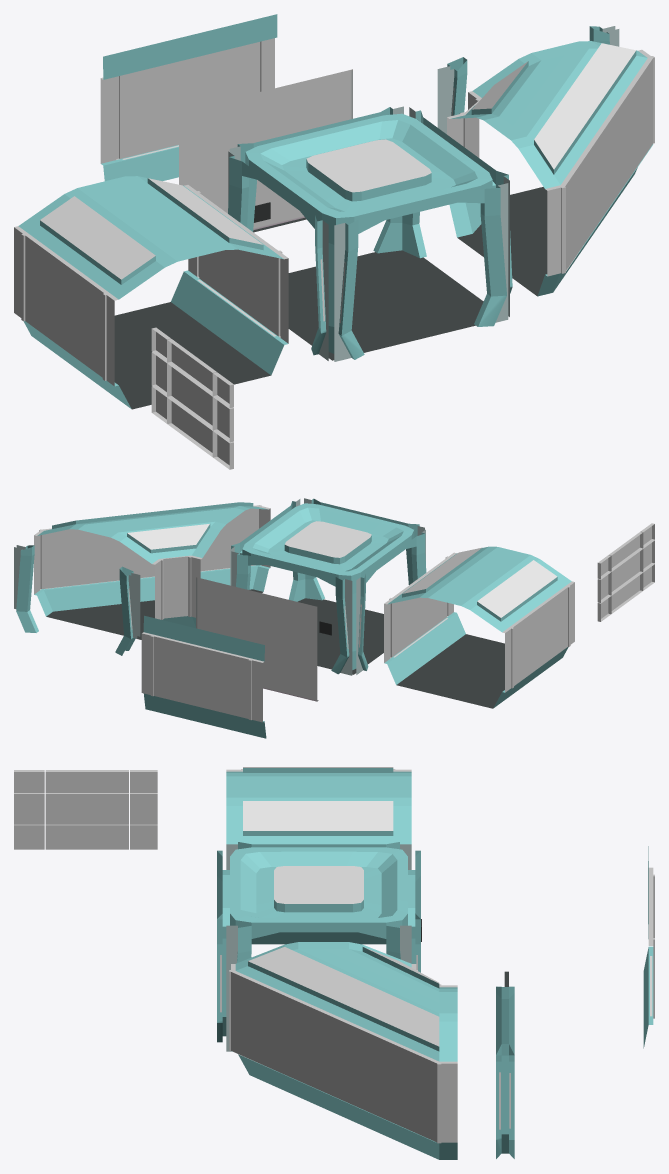
Rendered from CorridorModelLightVersion.fbx.
3 renders of one model, top to bottom at view 1: azimuth 30°, elevation 25°; view 2: azimuth 150°, elevation 25°; view 3: azimuth 270°, elevation 25°, orthographic. The views are drawn at different scales.
Visible parts, largest first — view 1: wallCorridor_straight, wallCorridor Bend_90, Arch_open, corridor_wildEnd, Cieling_4way, Corridor_WildEndBland, floor_open, panel_flat, floor_straight, Floor_90, arch_double; view 2: wallCorridor Bend_90, wallCorridor_straight, corridor_wildEnd, Corridor_WildEndBland, Cieling_4way, floor_straight, Arch_open, panel_flat, arch_double, arch_oneway, floor_open, Floor_90; view 3: wallCorridor Bend_90, wallCorridor_straight, Cieling_4way, panel_flat, Arch_open, arch_double, corridor_wildEnd, arch_oneway.
Part boxes in pixels (box(x1,y1,x2,y2)): wallCorridor_straight: box(14, 176, 288, 408); wallCorridor Bend_90: box(447, 41, 654, 296); Arch_open: box(228, 106, 512, 361); corridor_wildEnd: box(100, 14, 277, 181); Cieling_4way: box(245, 113, 492, 217); Corridor_WildEndBland: box(179, 69, 352, 232); floor_open: box(288, 250, 483, 360); panel_flat: box(151, 327, 233, 469); floor_straight: box(114, 302, 270, 409); Floor_90: box(457, 187, 547, 296); arch_double: box(437, 26, 619, 134); wallCorridor Bend_90: box(34, 502, 270, 628); wallCorridor_straight: box(384, 546, 574, 708); corridor_wildEnd: box(141, 615, 266, 738); Corridor_WildEndBland: box(196, 577, 318, 701); Cieling_4way: box(242, 503, 413, 575); floor_straight: box(396, 634, 504, 708); Arch_open: box(230, 498, 426, 674); panel_flat: box(597, 523, 654, 621); arch_double: box(14, 545, 140, 655); arch_oneway: box(231, 549, 352, 675); floor_open: box(297, 598, 383, 674); Floor_90: box(46, 589, 262, 639); wallCorridor Bend_90: box(229, 942, 457, 1159); wallCorridor_straight: box(226, 767, 411, 944); Cieling_4way: box(230, 847, 407, 922); panel_flat: box(14, 770, 157, 849); Arch_open: box(217, 842, 420, 1051); arch_double: box(496, 986, 514, 1158); corridor_wildEnd: box(643, 846, 654, 1048); arch_oneway: box(402, 850, 420, 972).
Size of the model in its own units: 1507 by 310 by 1383.
